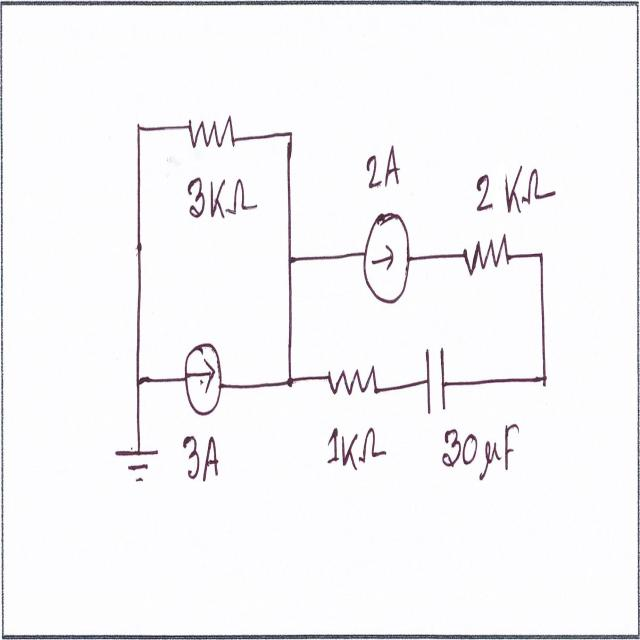capacitor: (424, 335, 449, 421)
current_source: (357, 209, 414, 315), (181, 332, 225, 422)
ground: (112, 437, 162, 488)
resistor: (184, 105, 239, 158), (458, 234, 514, 281), (324, 361, 381, 404)
